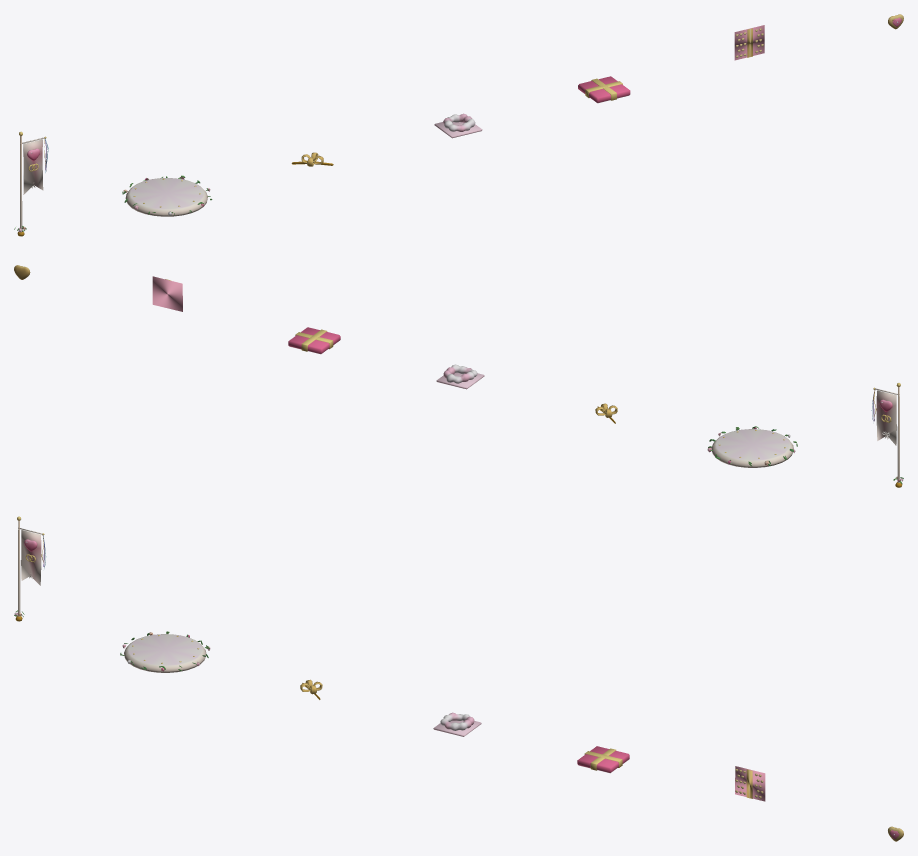
Rendered from prp_anniv_gift_lite.glb.
3 renders of one model, top to bottom at view 1: azimuth 30°, elevation 25°; view 2: azimuth 150°, elevation 25°; view 3: azimuth 330°, elevation 25°, orthographic.
Visible parts, largest first — view 1: INST_prp_anniv_gift_lite_dais, INST_prp_anniv_gift_lite_banner, INST_prp_anniv_gift_lite_gift_lid, INST_prp_anniv_gift_lite_gift_wall, INST_prp_anniv_gift_lite_gift_floor; view 2: INST_prp_anniv_gift_lite_dais, INST_prp_anniv_gift_lite_banner, INST_prp_anniv_gift_lite_gift_lid, INST_prp_anniv_gift_lite_gift_wall, INST_prp_anniv_gift_lite_gift_floor; view 3: INST_prp_anniv_gift_lite_dais, INST_prp_anniv_gift_lite_banner, INST_prp_anniv_gift_lite_gift_lid, INST_prp_anniv_gift_lite_gift_wall, INST_prp_anniv_gift_lite_gift_floor.
Part boxes in pixels (<box>): INST_prp_anniv_gift_lite_dais: <box>122,175,212,216</box>; INST_prp_anniv_gift_lite_banner: <box>14,131,48,236</box>; INST_prp_anniv_gift_lite_gift_lid: <box>578,76,630,103</box>; INST_prp_anniv_gift_lite_gift_wall: <box>734,25,764,60</box>; INST_prp_anniv_gift_lite_gift_floor: <box>434,113,482,138</box>; INST_prp_anniv_gift_lite_dais: <box>707,426,797,467</box>; INST_prp_anniv_gift_lite_banner: <box>871,383,903,487</box>; INST_prp_anniv_gift_lite_gift_lid: <box>288,327,340,354</box>; INST_prp_anniv_gift_lite_gift_wall: <box>152,276,182,311</box>; INST_prp_anniv_gift_lite_gift_floor: <box>436,364,484,389</box>; INST_prp_anniv_gift_lite_dais: <box>120,631,210,672</box>; INST_prp_anniv_gift_lite_banner: <box>14,516,46,621</box>; INST_prp_anniv_gift_lite_gift_lid: <box>577,746,629,773</box>; INST_prp_anniv_gift_lite_gift_wall: <box>735,766,765,801</box>; INST_prp_anniv_gift_lite_gift_floor: <box>433,712,481,736</box>.
Size of the model in its own units: 36.55 by 4.34 by 3.24.
